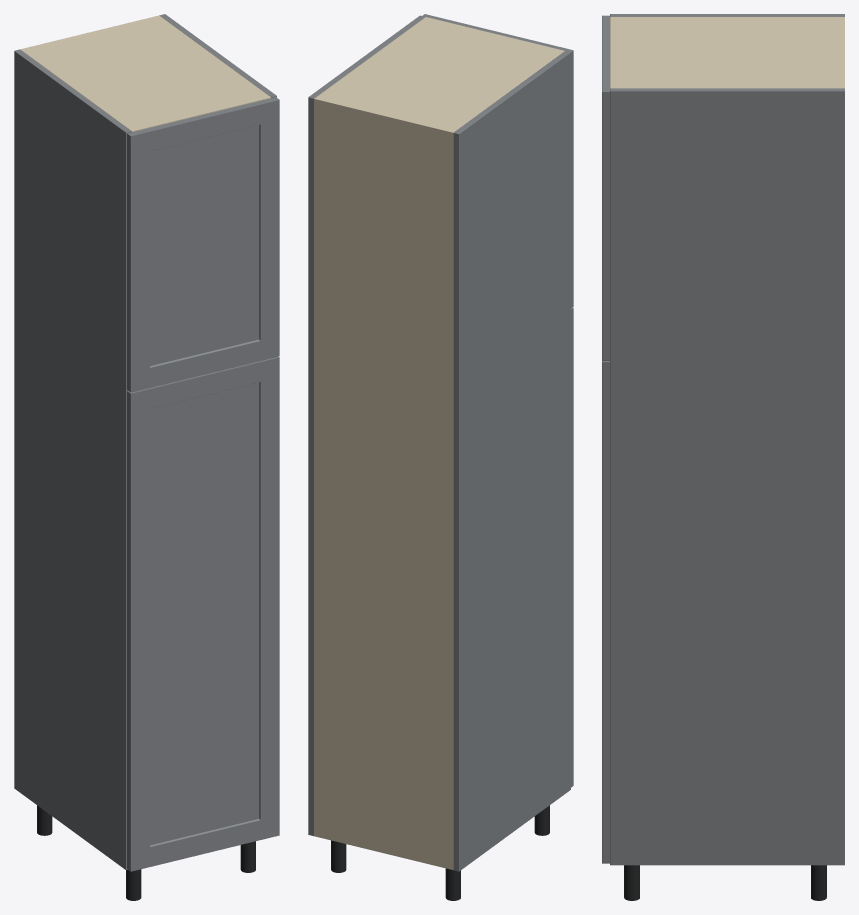
File: oppein-ply-gss-pc1884.glb
3 renders of one model, left to right at view 1: azimuth 30°, elevation 25°; view 2: azimuth 150°, elevation 25°; view 3: azimuth 270°, elevation 25°, orthographic. The views are drawn at different scales.
Parts seen in each view (by area): view 1: Cabinet side, Door, Door.001, Cabinet top, Cabinet side.001; view 2: Cabinet back, Cabinet side, Cabinet top, Cabinet side.001, Door, Door.001; view 3: Cabinet side.001, Cabinet top, Door, Door.001, Cabinet side, Adjustable foot.002, Adjustable foot.003.
Boxes of the visible parts, x1,y1,x2,y2 form: Cabinet side: (14, 49, 131, 869); Door: (127, 356, 279, 871); Door.001: (127, 97, 279, 392); Cabinet top: (22, 17, 270, 131); Cabinet side.001: (159, 14, 276, 98); Cabinet back: (314, 97, 454, 869); Cabinet side: (453, 51, 570, 871); Cabinet top: (316, 17, 564, 137); Cabinet side.001: (308, 15, 425, 835); Door: (571, 307, 573, 787); Door.001: (422, 14, 573, 308); Cabinet side.001: (610, 88, 844, 865); Cabinet top: (610, 17, 840, 88); Door: (602, 361, 609, 863); Door.001: (602, 15, 609, 360); Cabinet side: (610, 14, 844, 16); Adjustable foot.002: (811, 865, 826, 900); Adjustable foot.003: (624, 865, 639, 900).
Size of the model in its own units: 0.4572 by 2.25 by 0.6064.
